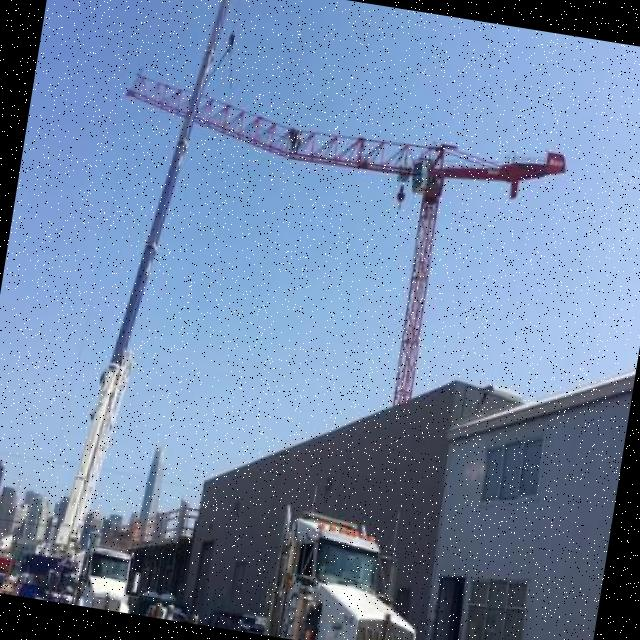Mobile Crane: (17, 0, 243, 616)
